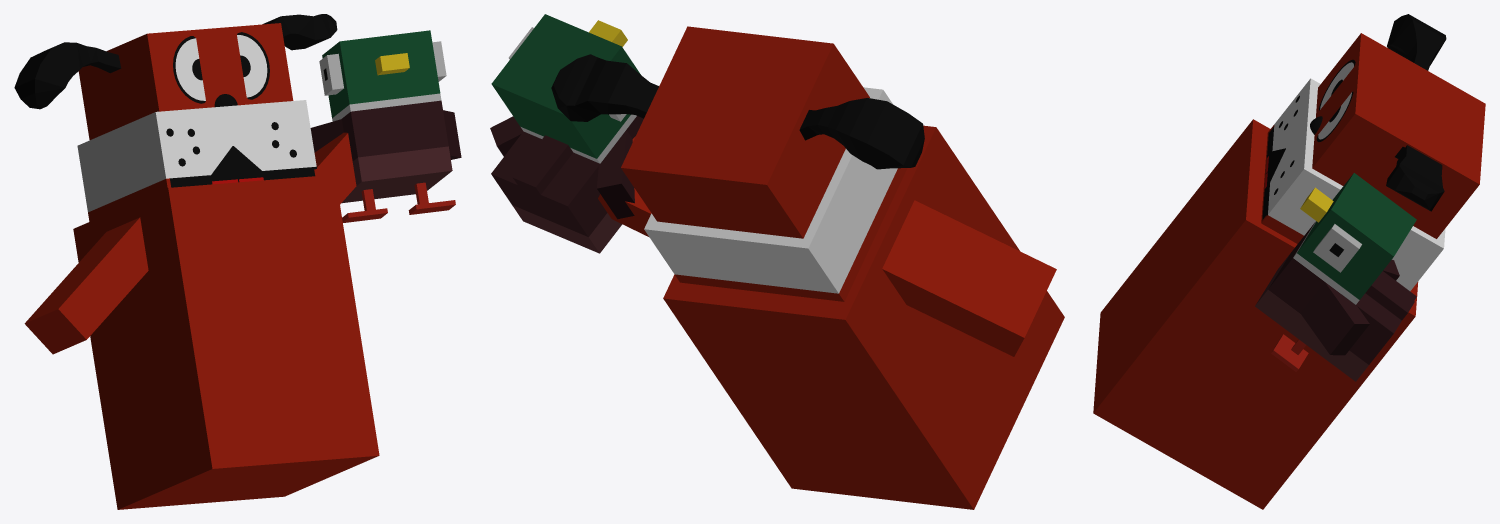
The model's file is dog_single_bird.dae.
3 renders of one model, left to right at view 1: azimuth 30°, elevation 25°; view 2: azimuth 150°, elevation 25°; view 3: azimuth 270°, elevation 25°, orthographic. The views are drawn at different scales.
Visible parts, largest first — view 1: Cube_005; view 2: Cube_005; view 3: Cube_005.
Boxes of the visible parts, <box> form: Cube_005: <box>14,14,461,509</box>; Cube_005: <box>490,14,1064,509</box>; Cube_005: <box>1093,14,1485,509</box>.
Size of the model in its own units: 3.61 by 3.44 by 2.8.
